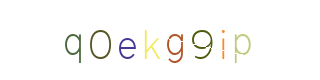0: (86, 0, 166, 80)
9: (138, 0, 218, 80)
E: (97, 0, 177, 80)
G: (122, 0, 202, 80)
I: (142, 0, 222, 80)
K: (120, 0, 200, 80)
P: (143, 0, 223, 80)
Q: (73, 0, 153, 80)
